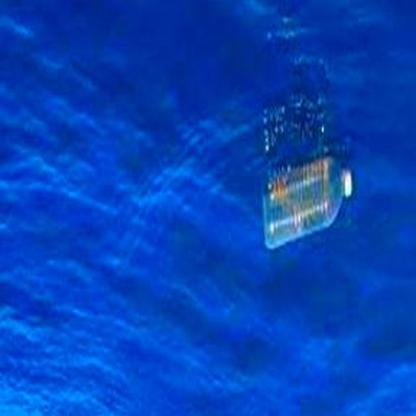plastic bottle: (262, 156, 353, 251)
